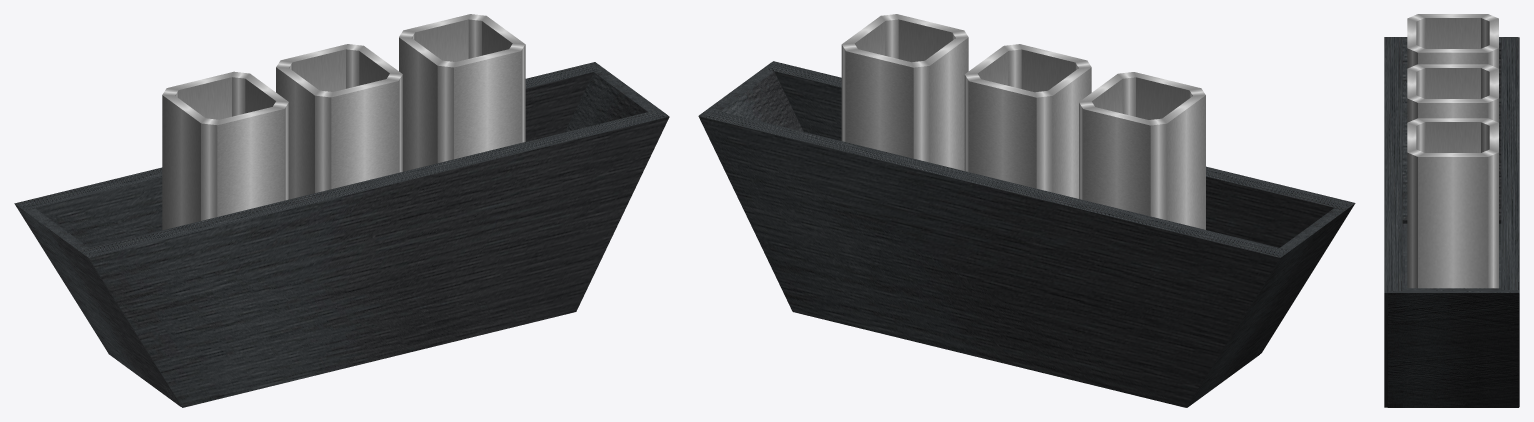
File: CandleHolderRack3x1.fbx
3 renders of one model, left to right at view 1: azimuth 30°, elevation 25°; view 2: azimuth 150°, elevation 25°; view 3: azimuth 270°, elevation 25°, orthographic. The views are drawn at different scales.
Visible parts, largest first — view 1: mid wall 2, Cube.002, Cube, Cube.001, mid wall, right panel.001, right panel; view 2: mid wall, Cube.002, Cube, Cube.001, mid wall 2, right panel.001, right panel; view 3: Cube, right panel, mid wall 2, Cube.001, mid wall, Cube.002, right panel.001, floor.
Part boxes in pixels (x1,y1,x2,y2): mid wall 2: (79, 110, 669, 407); Cube.002: (162, 71, 288, 230); Cube: (399, 14, 525, 171); Cube.001: (276, 44, 402, 199); mid wall: (14, 62, 598, 272); right panel.001: (15, 203, 172, 400); right panel: (565, 62, 667, 132); mid wall: (698, 110, 1288, 407); Cube.002: (1079, 72, 1205, 229); Cube: (841, 14, 968, 170); Cube.001: (964, 44, 1091, 198); mid wall 2: (767, 61, 1355, 359); right panel.001: (1187, 204, 1353, 407); right panel: (699, 62, 803, 311); Cube: (1407, 118, 1498, 288); right panel: (1388, 288, 1518, 407); mid wall 2: (1384, 37, 1402, 407); Cube.001: (1407, 64, 1498, 122); mid wall: (1501, 37, 1519, 407); Cube.002: (1407, 14, 1498, 68); right panel.001: (1402, 37, 1518, 223); floor: (1402, 223, 1501, 288).
Size of the model in its own units: 99.18 by 42.78 by 22.15.
5 materials, 5 textured.
